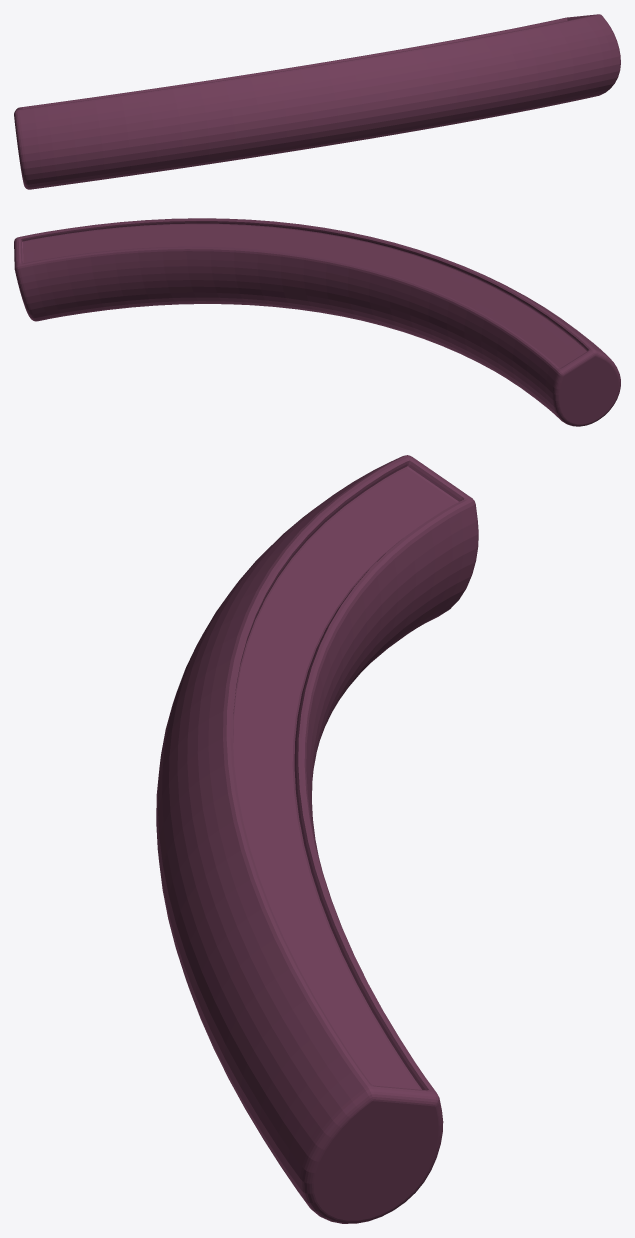
File: Lampd.fbx
3 renders of one model, top to bottom at view 1: azimuth 30°, elevation 25°; view 2: azimuth 150°, elevation 25°; view 3: azimuth 270°, elevation 25°, orthographic. The views are drawn at different scales.
Parts seen in each view (by area): view 1: BeInspiration_69:Circle001; view 2: BeInspiration_69:Circle001; view 3: BeInspiration_69:Circle001.
Part boxes in pixels (x1=…): BeInspiration_69:Circle001: x1=14, y1=14, x2=620, y2=189; BeInspiration_69:Circle001: x1=14, y1=218, x2=620, y2=426; BeInspiration_69:Circle001: x1=156, y1=455, x2=478, y2=1223.
Size of the model in its own units: 81.15 by 16.75 by 19.17.
